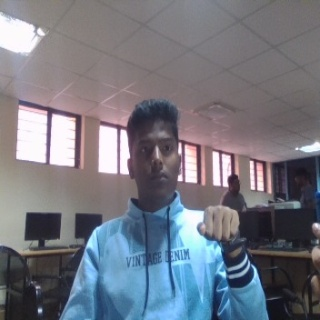Face: (124, 100, 186, 209)
Yes: (197, 204, 248, 258)
